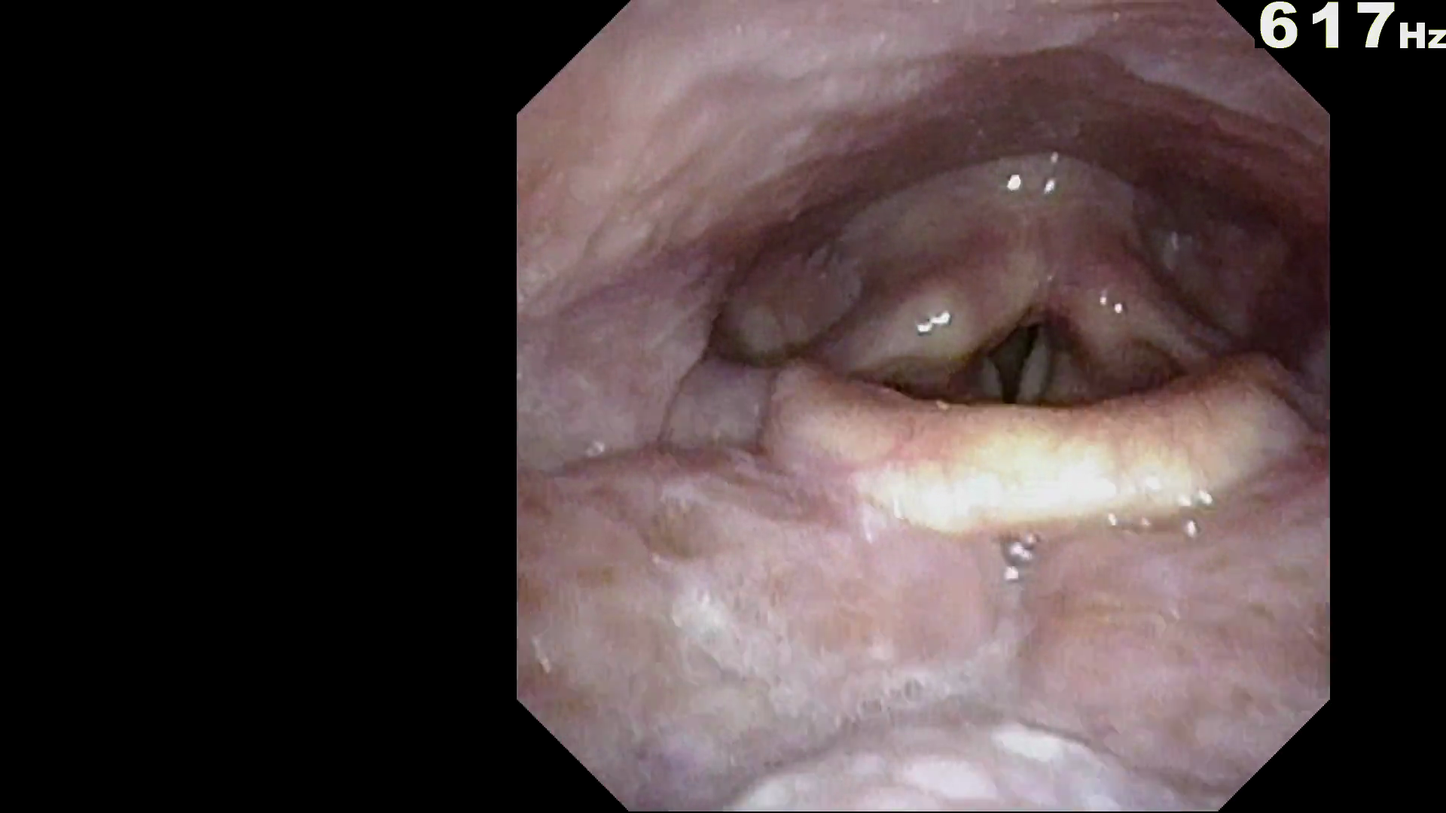epiglottis: (742, 336, 1305, 592)
trachea: (930, 274, 1102, 480)
